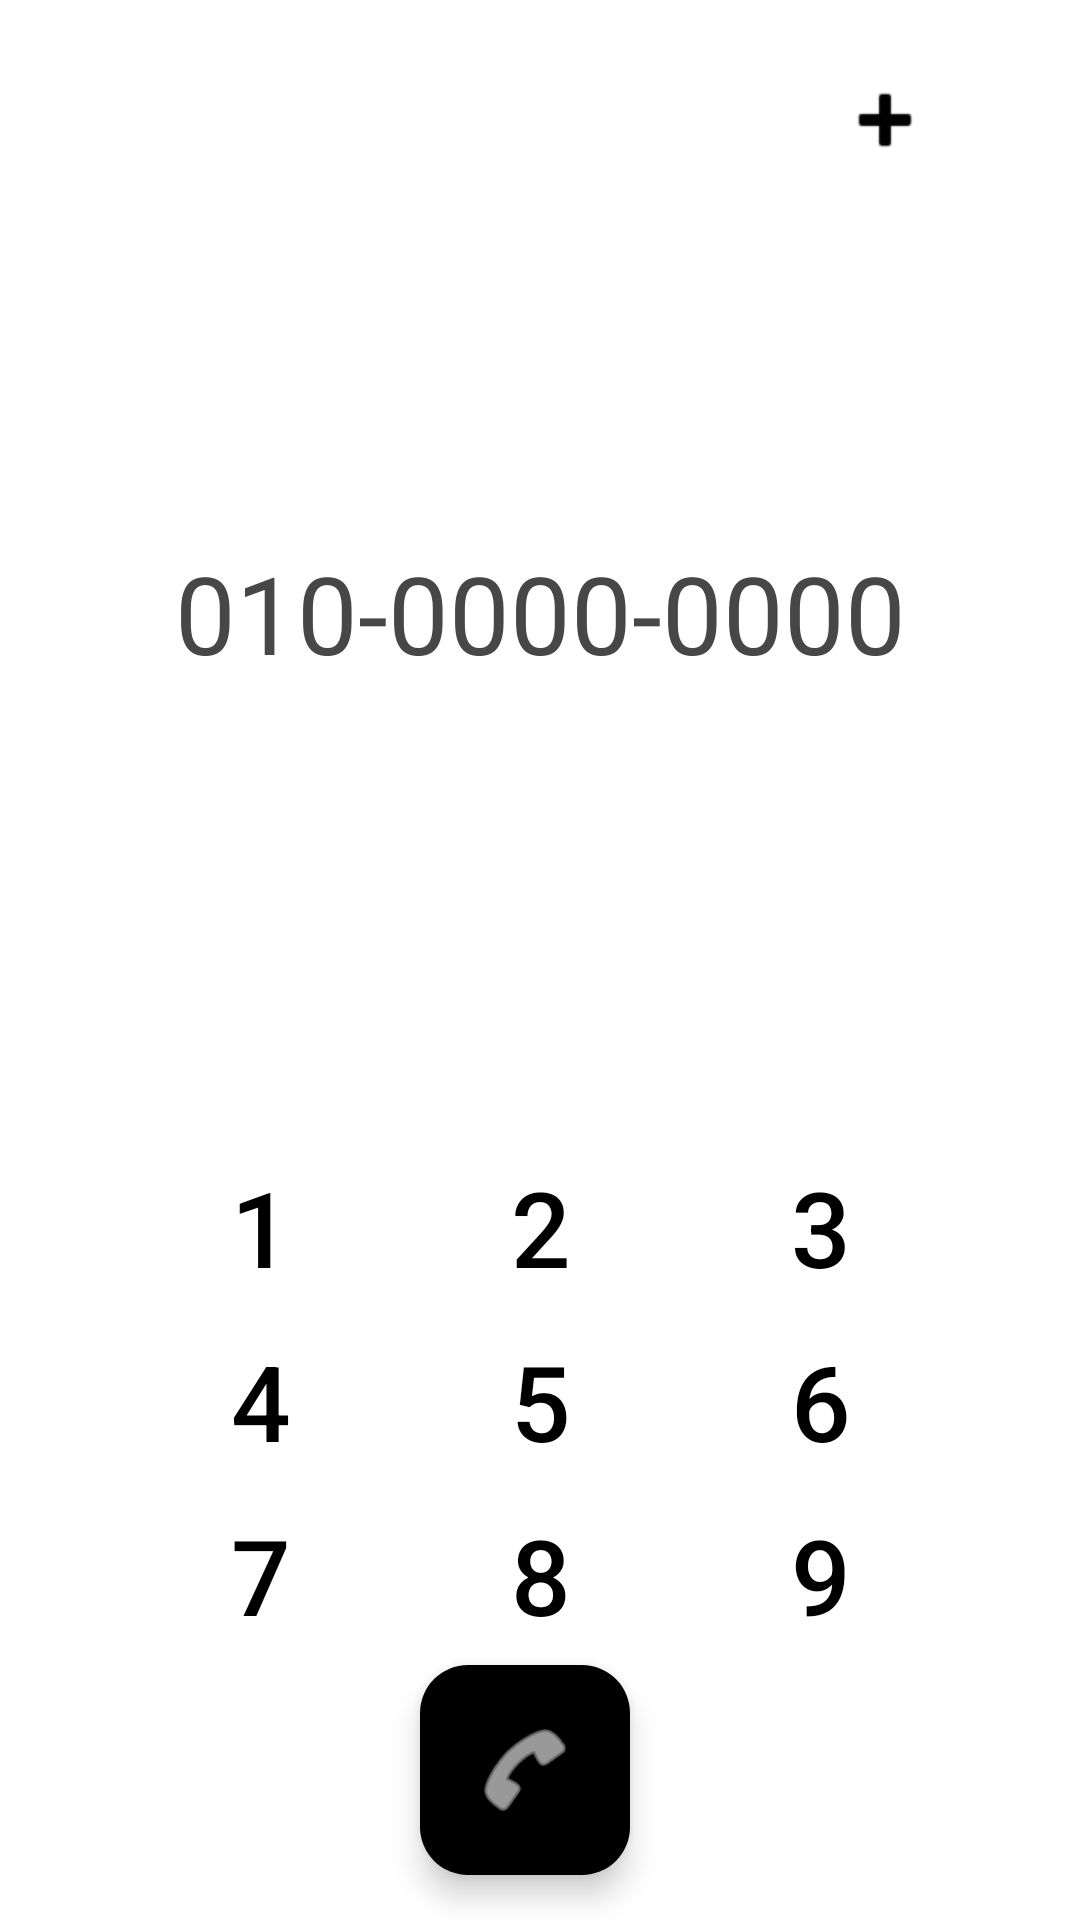

Screen size 1080 x 1920. Icon name, then its center in pixels as [x,y]:
call: [525,1770]
연락처 추가: [885,120]
